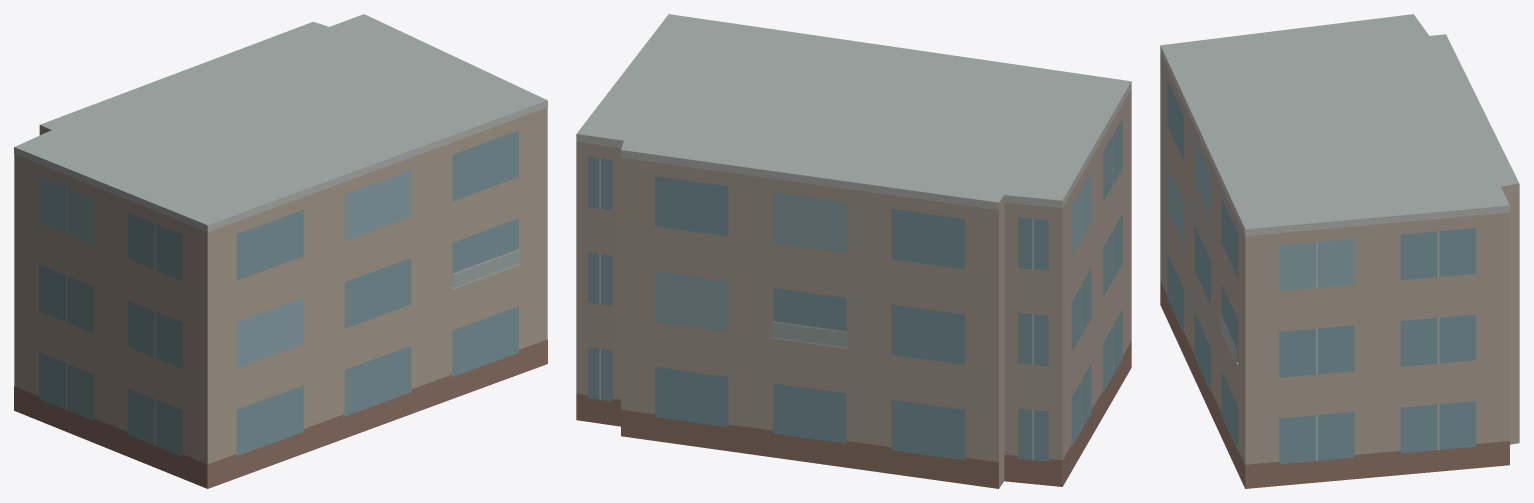
Rendered from survey-upis-32752364.glb.
The picture shows the model from 3 angles, left to right: view 1: azimuth 30°, elevation 25°; view 2: azimuth 150°, elevation 25°; view 3: azimuth 270°, elevation 25°; orthographic projection. The views are drawn at different scales.
Parts seen in each view (by area): view 1: survey-upis-32752364.tmp; view 2: survey-upis-32752364.tmp; view 3: survey-upis-32752364.tmp.
Boxes of the visible parts, left/top/right/bottom form: survey-upis-32752364.tmp: left=14, top=14, right=547, bottom=488; survey-upis-32752364.tmp: left=576, top=14, right=1131, bottom=488; survey-upis-32752364.tmp: left=1160, top=14, right=1519, bottom=488.
Bounding box in the file's own units: 16.29 × 9.15 × 11.48.
